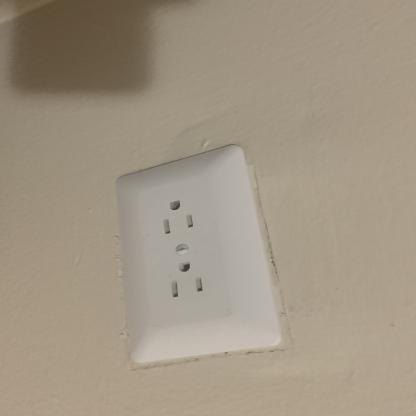OUTLET: (115, 145, 264, 366)
